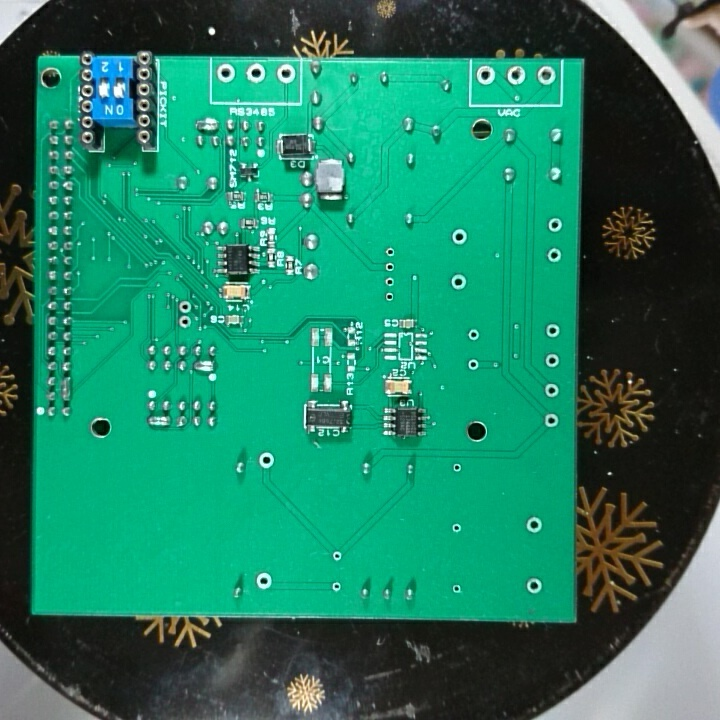F: (521, 513, 545, 538), (243, 61, 267, 86), (274, 62, 297, 88), (215, 60, 237, 86), (474, 63, 497, 87), (535, 63, 557, 88), (523, 574, 545, 599), (447, 271, 471, 292), (449, 225, 470, 249), (506, 64, 528, 86), (254, 569, 274, 593), (256, 449, 277, 471), (543, 321, 563, 342), (543, 409, 561, 432), (542, 350, 561, 371), (547, 213, 564, 236), (328, 546, 346, 566), (448, 518, 466, 537), (465, 324, 482, 344), (546, 245, 562, 266), (544, 382, 562, 400), (177, 298, 196, 315), (328, 578, 345, 596), (465, 355, 483, 372), (449, 458, 464, 478), (448, 581, 465, 598), (382, 244, 399, 261), (382, 259, 399, 274), (382, 273, 397, 289), (176, 314, 192, 329), (382, 289, 397, 304)
P: (191, 115, 221, 133), (145, 413, 173, 432), (58, 375, 74, 404), (190, 358, 217, 375)
